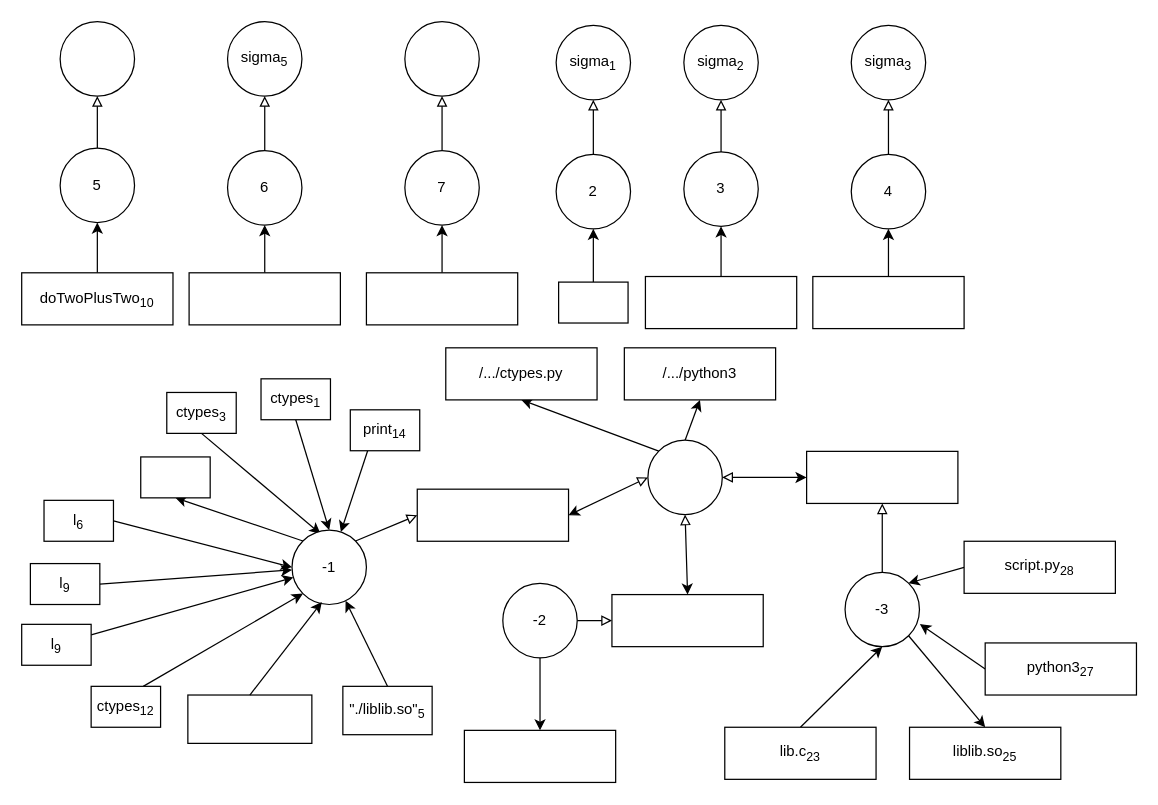
The diagram is 1158 pixels wide and 805 high, and some of its shapes have lost their labels. The shapes that lost their labels are listed below. From the top down, each one's centre as x and y in pixels, then its label:
point 97,58: sigma 4
point 441,58: sigma 6
point 264,298: restype 11
point 441,298: c_int 13
point 592,302: CDLL 4
point 720,302: doTwoPlusTwo 7
point 888,302: argtypes 8
point 175,477: l 2
point 684,477: System
point 881,476: /.../build.sh -3
point 492,514: /.../script.py -1
point 687,620: /.../lib.c -2
point 249,718: "doTwoPlusTwo" 16
point 539,755: doTwoPlusTwo 17
